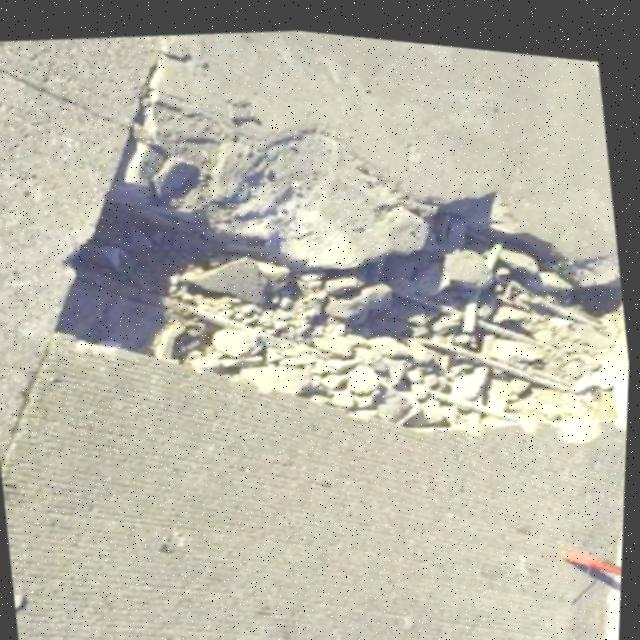Pothole: (0, 0, 640, 536)
